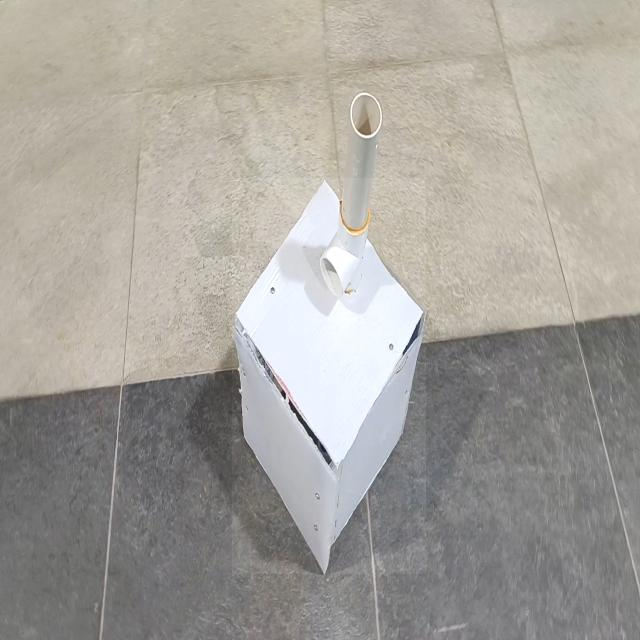Cube: (232, 178, 426, 574)
